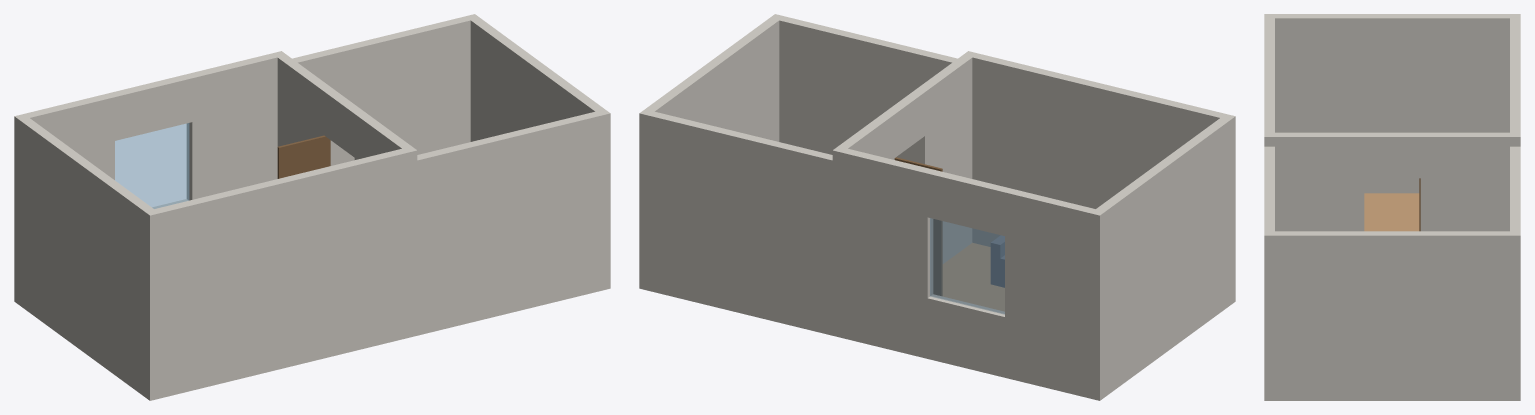
The model's file is demo-model.obj.
3 renders of one model, left to right at view 1: azimuth 30°, elevation 25°; view 2: azimuth 150°, elevation 25°; view 3: azimuth 270°, elevation 25°, orthographic. The views are drawn at different scales.
Visible parts, largest first — view 1: wall_422123a7, wall_f2fb30cd, wall_efadba55, wall_64b4ea72, wall_d8795977, wall_feef2e25, wall_8d8ba733, glass_fd9d4c66, door_92722766; view 2: wall_64b4ea72, wall_d8795977, wall_efadba55, wall_422123a7, wall_f2fb30cd, wall_feef2e25, wall_8d8ba733, glass_fd9d4c66, floor_311111d7, door_92722766, furniture_42b0810f; view 3: wall_feef2e25, wall_efadba55, wall_8d8ba733, wall_d8795977, floor_311111d7, wall_f2fb30cd, wall_64b4ea72, wall_422123a7.
Boxes of the visible parts, <box> form: wall_422123a7: <box>144,146,417,400</box>; wall_f2fb30cd: <box>417,109,610,335</box>; wall_efadba55: <box>14,114,159,400</box>; wall_64b4ea72: <box>14,51,286,302</box>; wall_d8795977: <box>292,14,479,164</box>; wall_feef2e25: <box>466,14,610,290</box>; wall_8d8ba733: <box>273,51,417,336</box>; glass_fd9d4c66: <box>115,123,189,208</box>; door_92722766: <box>277,135,330,178</box>; wall_64b4ea72: <box>832,146,1105,400</box>; wall_d8795977: <box>639,109,842,337</box>; wall_efadba55: <box>1090,114,1234,400</box>; wall_422123a7: <box>963,51,1235,305</box>; wall_f2fb30cd: <box>770,15,957,161</box>; wall_feef2e25: <box>639,14,784,290</box>; wall_8d8ba733: <box>832,51,977,337</box>; glass_fd9d4c66: <box>930,218,1004,314</box>; floor_311111d7: <box>943,243,1004,311</box>; door_92722766: <box>894,157,942,295</box>; furniture_42b0810f: <box>991,235,1004,287</box>; wall_feef2e25: <box>1264,231,1520,400</box>; wall_efadba55: <box>1264,14,1520,193</box>; wall_8d8ba733: <box>1264,132,1519,231</box>; wall_d8795977: <box>1510,146,1520,400</box>; floor_311111d7: <box>1364,193,1419,231</box>; wall_f2fb30cd: <box>1264,146,1274,400</box>; wall_64b4ea72: <box>1510,14,1520,146</box>; wall_422123a7: <box>1264,14,1274,146</box>.
Bounding box in the file's own units: 7.15 × 2.75 × 3.65.
